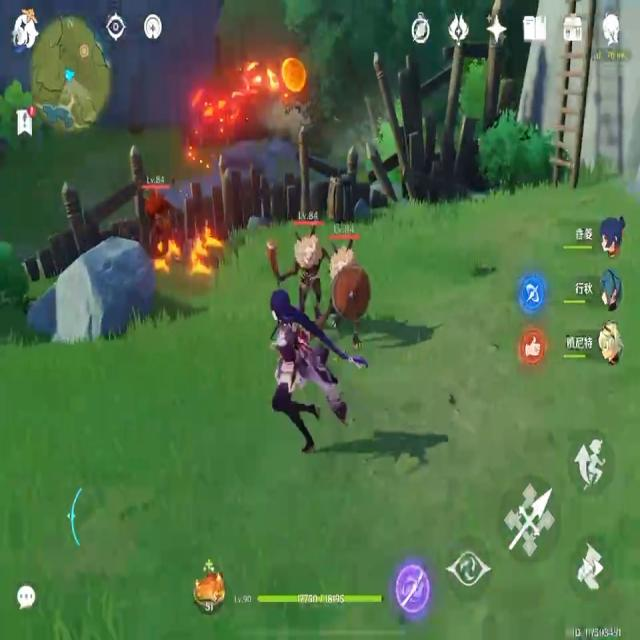genshin-hilichurls: (254, 190, 319, 306), (323, 216, 379, 344), (134, 167, 180, 270)
